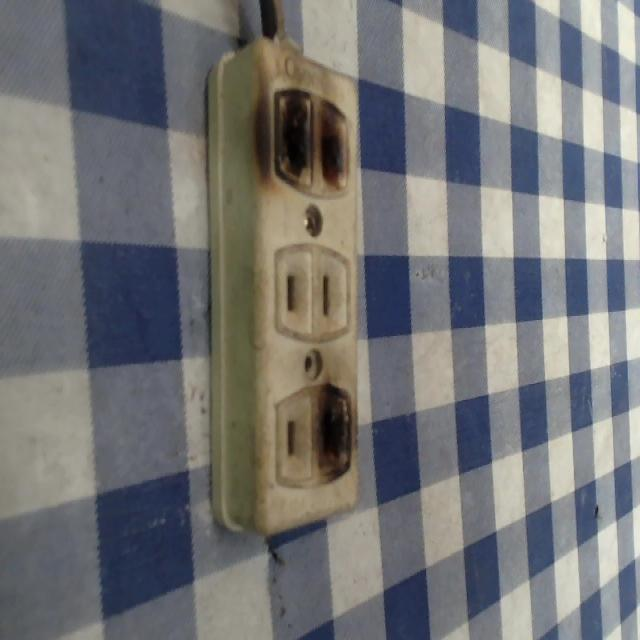-: (247, 81, 358, 200), (305, 376, 359, 488)
